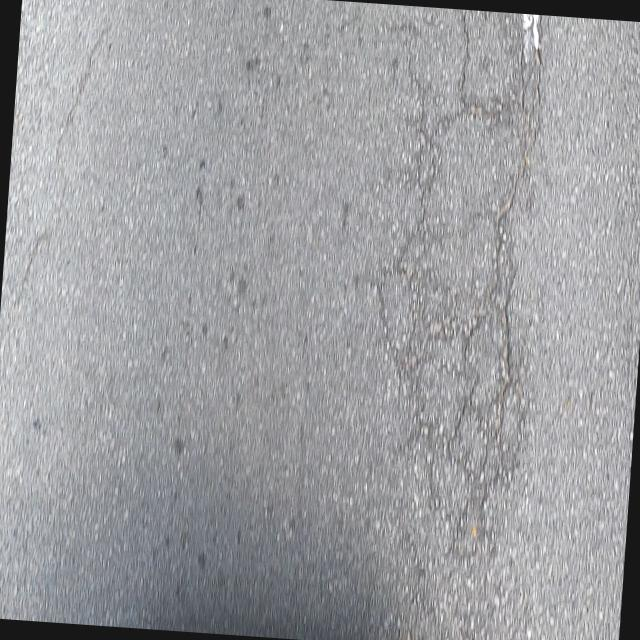Retak-Buaya: (360, 16, 554, 564)
Retak-Memanjang: (14, 17, 112, 317)
